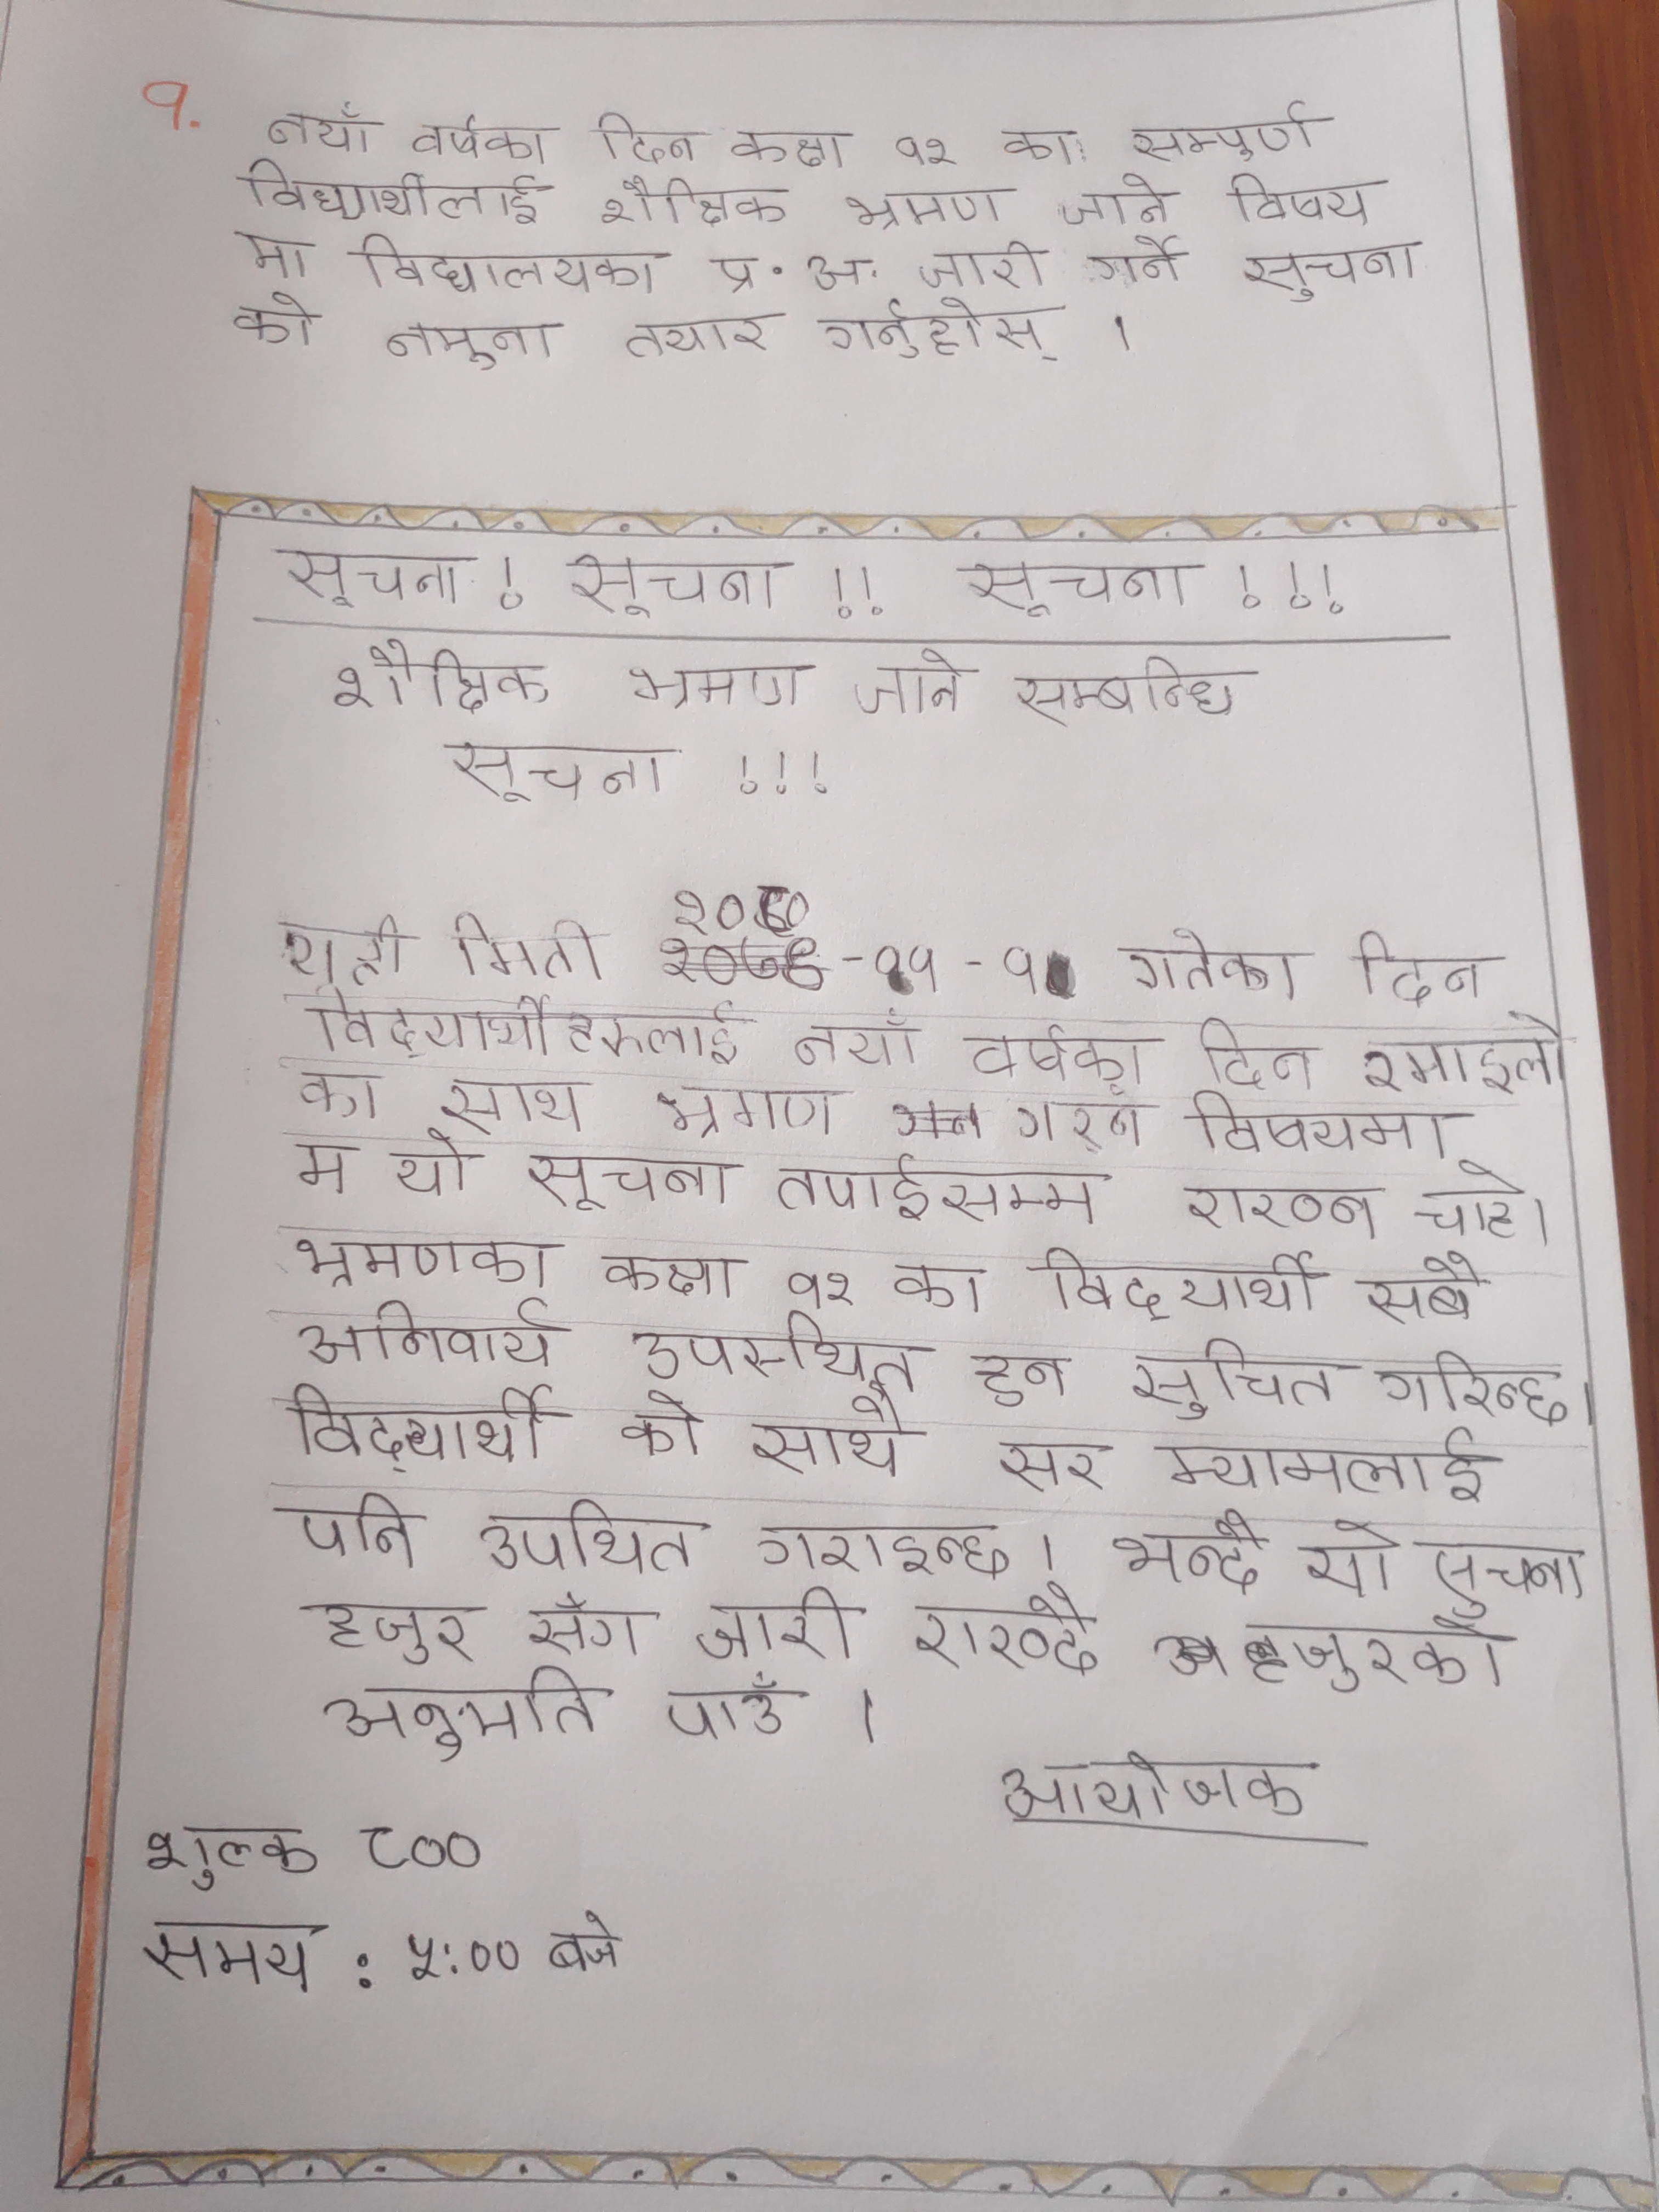text: (305, 988, 739, 1066), (769, 1150, 1105, 1235), (1159, 1423, 1490, 1505), (317, 1665, 601, 1759), (279, 1383, 554, 1475), (990, 1752, 1321, 1827), (629, 1312, 922, 1395), (237, 155, 547, 232), (1239, 1608, 1518, 1689), (352, 226, 662, 296), (1042, 1244, 1323, 1318), (1185, 1089, 1460, 1163), (296, 1298, 566, 1371), (1124, 1336, 1344, 1423), (329, 637, 552, 721), (906, 1581, 1103, 1676), (823, 294, 1075, 368), (481, 1500, 706, 1581), (751, 1512, 1026, 1578), (439, 732, 676, 806), (953, 557, 1211, 624), (568, 549, 795, 624), (1359, 1014, 1568, 1094), (1011, 653, 1241, 725), (289, 1233, 561, 1292), (525, 1141, 742, 1214), (138, 1909, 321, 1993), (1375, 1348, 1581, 1421), (748, 1388, 906, 1477), (272, 542, 471, 611), (1176, 1172, 1385, 1238), (1108, 1510, 1265, 1597), (312, 1588, 481, 1669), (138, 1822, 326, 1893), (1241, 237, 1431, 307), (444, 909, 612, 988), (1117, 923, 1309, 991), (694, 1588, 859, 1667), (655, 1071, 842, 1139), (596, 172, 796, 235), (969, 1017, 1154, 1085), (1427, 1540, 1586, 1616), (1126, 105, 1328, 164), (1345, 928, 1495, 1005), (622, 660, 819, 714), (1218, 171, 1392, 232), (281, 1489, 415, 1568), (1197, 1007, 1321, 1090), (387, 312, 558, 371), (849, 641, 971, 723), (1361, 1256, 1490, 1331), (664, 1676, 800, 1743), (870, 944, 1049, 995), (1002, 1087, 1154, 1146), (842, 178, 1006, 232), (279, 911, 404, 981), (437, 1073, 591, 1129), (913, 232, 1049, 294), (613, 305, 774, 357), (1298, 1515, 1399, 1597), (791, 1012, 929, 1071), (596, 1245, 744, 1299), (993, 1426, 1108, 1494), (528, 1590, 641, 1658), (410, 113, 551, 167), (671, 885, 817, 935), (708, 251, 875, 294), (361, 1822, 483, 1881), (260, 103, 378, 162), (727, 117, 849, 174), (394, 1930, 528, 1982), (1419, 1170, 1521, 1238), (1056, 172, 1175, 230), (971, 1348, 1072, 1414), (882, 1256, 990, 1317), (542, 1907, 627, 1980), (389, 1136, 477, 1205), (620, 1392, 701, 1463), (592, 113, 706, 164), (1087, 232, 1192, 286), (228, 291, 321, 348), (295, 1068, 383, 1125), (240, 226, 317, 287), (281, 1141, 361, 1195), (782, 1266, 868, 1313), (1000, 120, 1082, 167), (889, 127, 965, 176)
